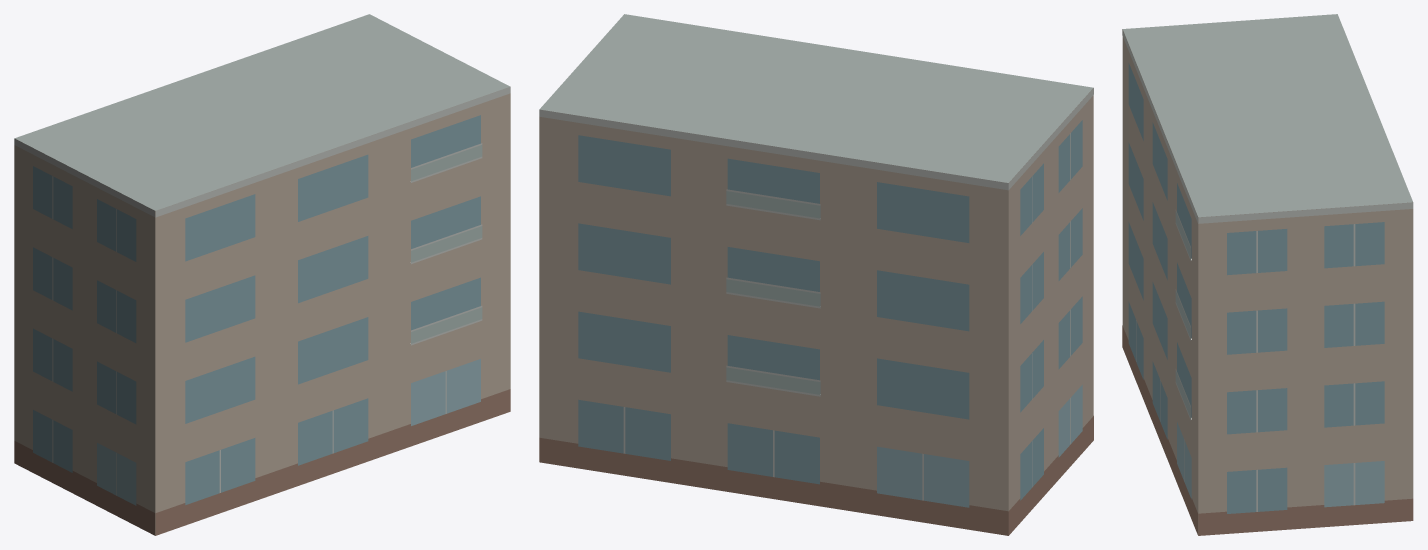
Rendered from survey-upis-32889385.glb.
3 views of the same model, side by side, from view 1: azimuth 30°, elevation 25°; view 2: azimuth 150°, elevation 25°; view 3: azimuth 270°, elevation 25° (orthographic). The views are drawn at different scales.
Parts seen in each view (by area): view 1: survey-upis-32889385.tmp; view 2: survey-upis-32889385.tmp; view 3: survey-upis-32889385.tmp.
Part boxes in pixels (box(x1,y1,x2,y2)): survey-upis-32889385.tmp: box(14, 14, 510, 535); survey-upis-32889385.tmp: box(539, 14, 1093, 535); survey-upis-32889385.tmp: box(1122, 14, 1413, 535).
Bounding box in the file's own units: 16.3 × 11.9 × 9.85.
